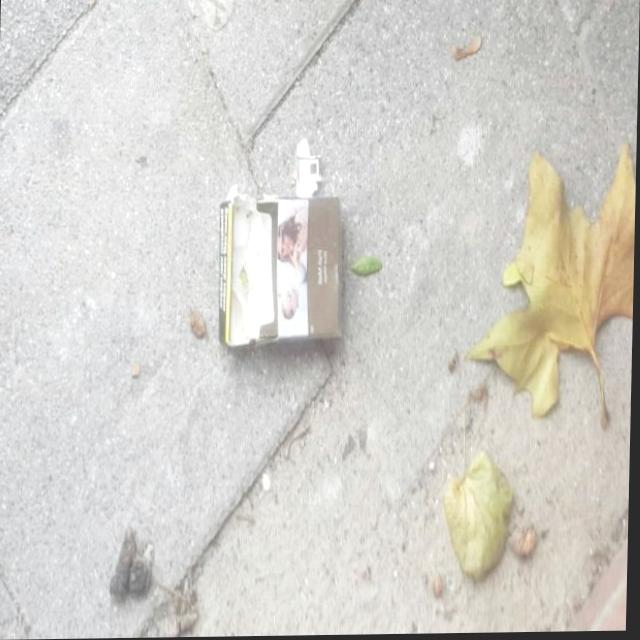Paper: (214, 193, 347, 352)
